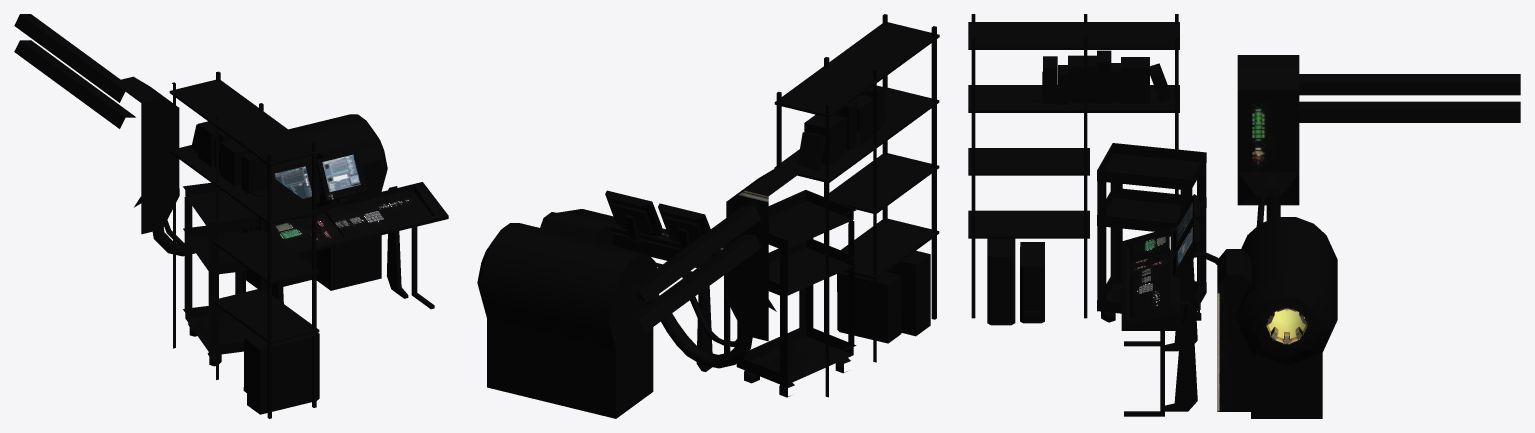
Rendered from cornerunit2.glb.
3 views of the same model, side by side, from view 1: azimuth 30°, elevation 25°; view 2: azimuth 150°, elevation 25°; view 3: azimuth 270°, elevation 25° (orthographic). The views are drawn at different scales.
Visible parts, largest first — view 1: 0_cornerunit2_sheet, 1_computer_disp; view 2: 0_cornerunit2_sheet; view 3: 0_cornerunit2_sheet, 1_computer_disp.
Part boxes in pixels (x1,y1,x2,y2): 0_cornerunit2_sheet: [14, 14, 448, 418]; 1_computer_disp: [274, 154, 360, 198]; 0_cornerunit2_sheet: [477, 14, 939, 418]; 0_cornerunit2_sheet: [968, 14, 1520, 418]; 1_computer_disp: [1177, 202, 1192, 266].
Bounding box in the file's own units: 2.26 × 2.25 × 4.
Materials: 2 (2 with a texture image).
